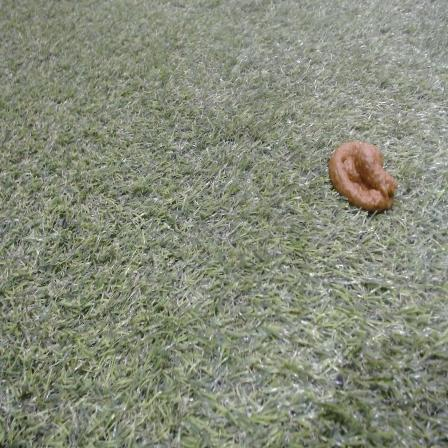dog-poop: (332, 140, 398, 212)
